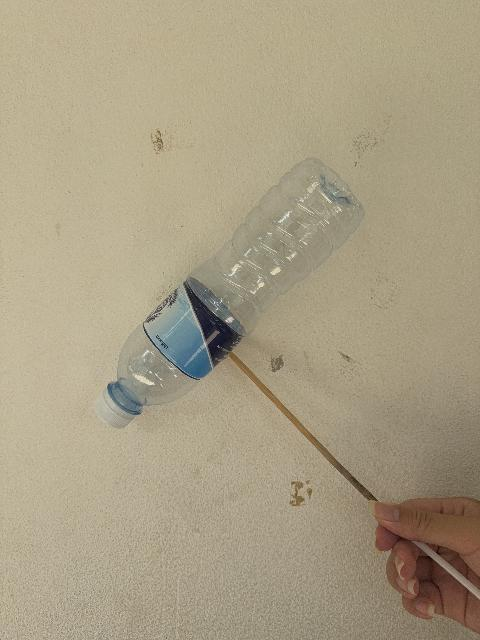bottle: (95, 159, 363, 427)
